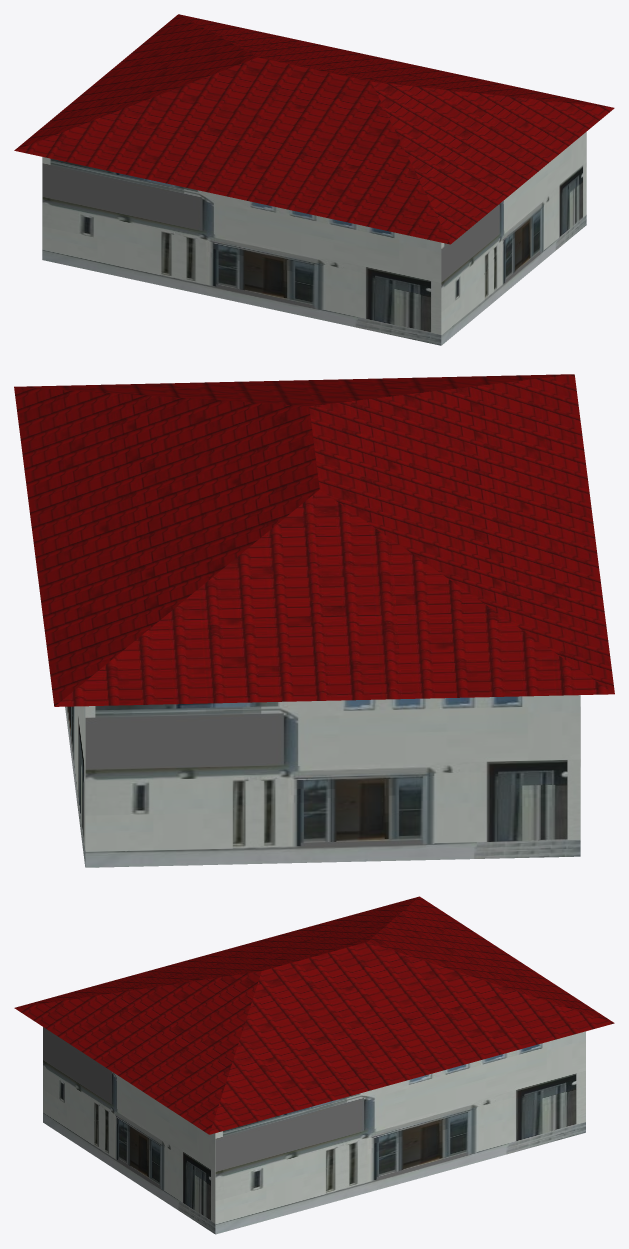
The picture shows the model from 3 angles, top to bottom: view 1: azimuth 30°, elevation 25°; view 2: azimuth 150°, elevation 25°; view 3: azimuth 270°, elevation 25°; orthographic projection. The views are drawn at different scales.
Parts seen in each view (by area): view 1: CityEngineMaterial_17_m, CityEngineMaterial_11_m; view 2: CityEngineMaterial_17_m, CityEngineMaterial_11_m; view 3: CityEngineMaterial_17_m, CityEngineMaterial_11_m.
Boxes of the visible parts, x1,y1,x2,y2 form: CityEngineMaterial_17_m: (14, 14, 614, 244); CityEngineMaterial_11_m: (42, 132, 586, 345); CityEngineMaterial_17_m: (14, 374, 614, 706); CityEngineMaterial_11_m: (65, 695, 580, 867); CityEngineMaterial_17_m: (14, 896, 614, 1134); CityEngineMaterial_11_m: (43, 1027, 585, 1234).
Size of the model in its own units: 25.34 by 8.47 by 26.99.
